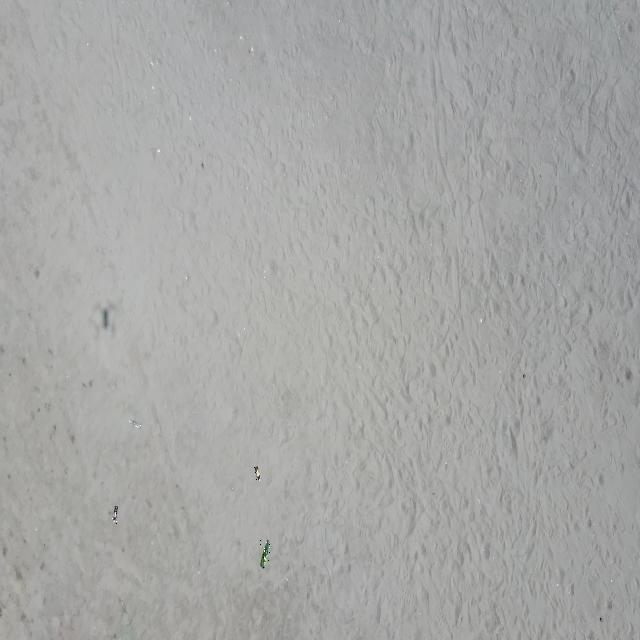glass: (260, 540, 270, 570), (112, 505, 120, 524), (130, 420, 144, 429), (254, 466, 261, 484)
